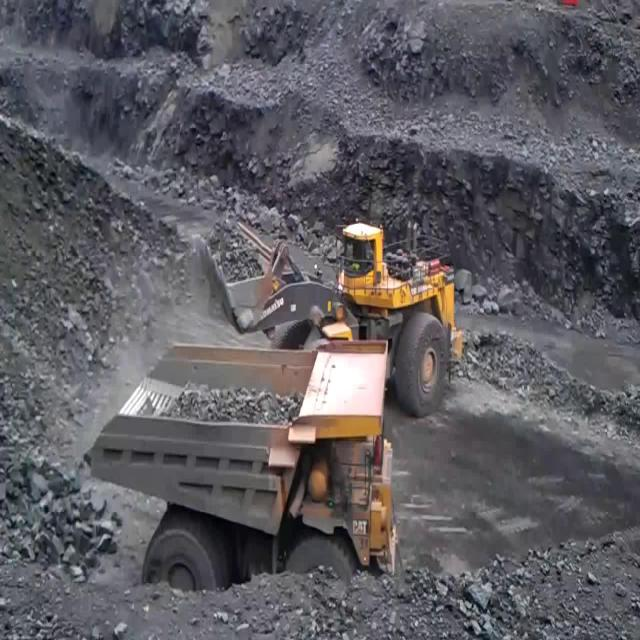Dump Truck: (83, 341, 393, 588)
Loader: (199, 212, 465, 416)
